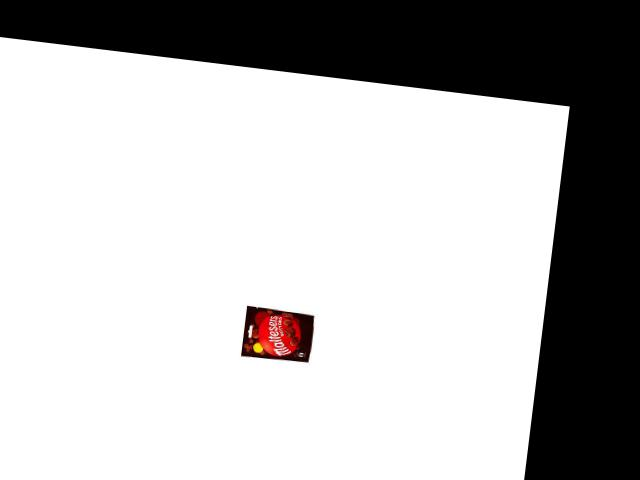chocolate: (239, 304, 317, 364)
